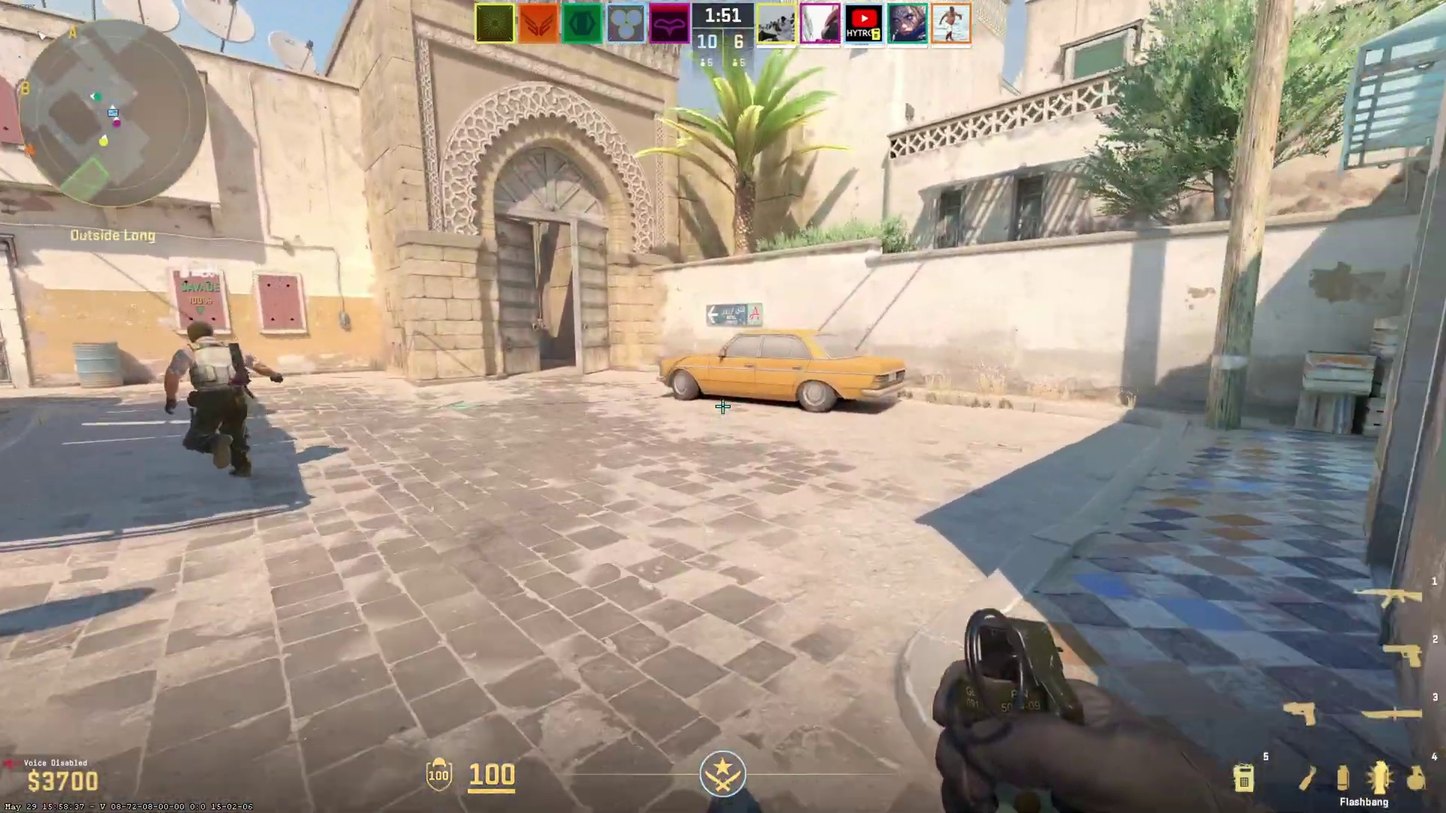Terrorist: (182, 320, 251, 477)
